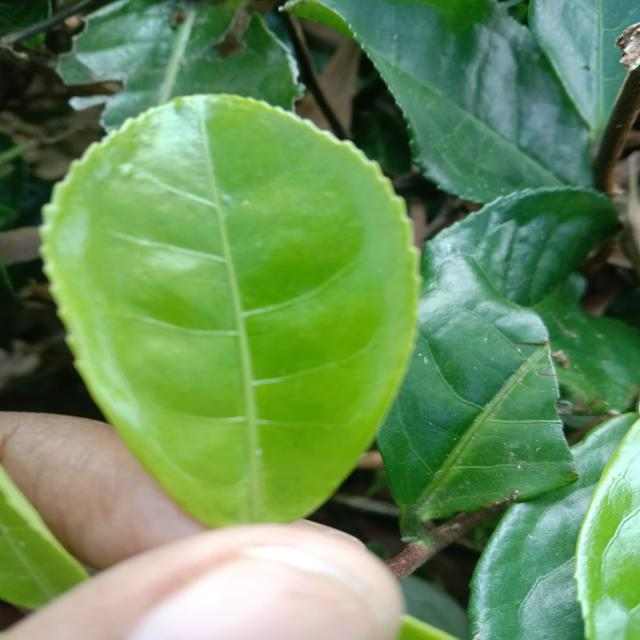Category B(2-4 days): (28, 77, 447, 544), (30, 98, 46, 101)
